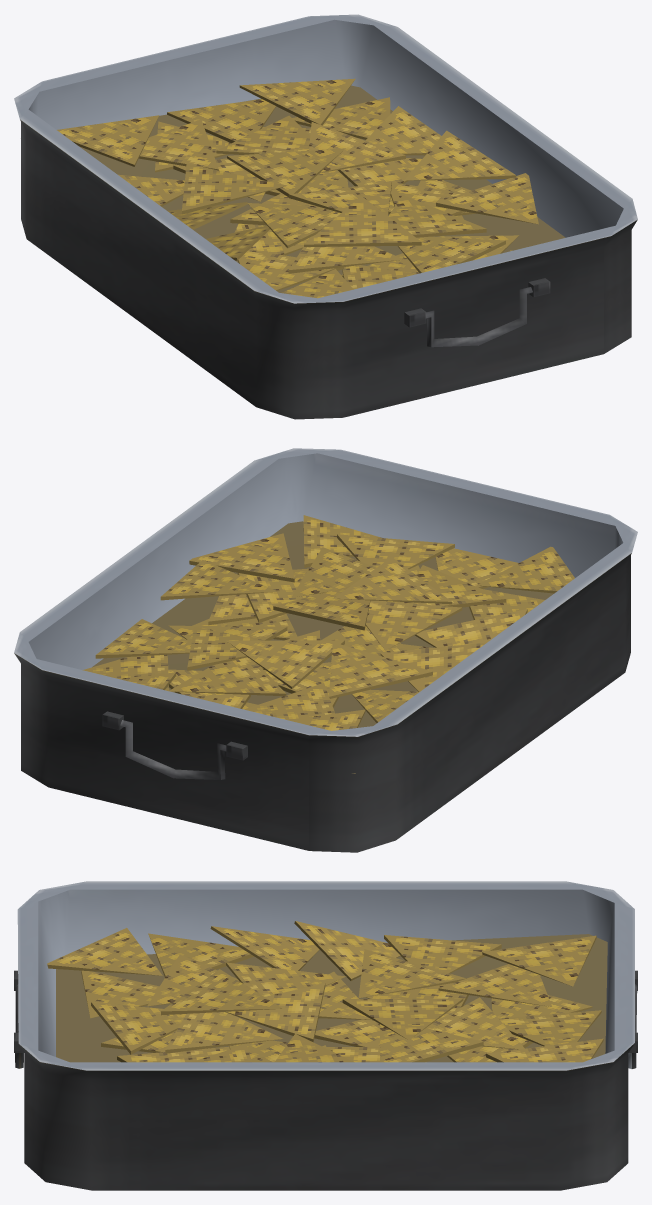
File: VFX_RoastingPanNachos.fbx
The picture shows the model from 3 angles, top to bottom: view 1: azimuth 30°, elevation 25°; view 2: azimuth 150°, elevation 25°; view 3: azimuth 270°, elevation 25°; orthographic projection. The views are drawn at different scales.
Visible parts, largest first — view 1: Roasting Pan Nachos; view 2: Roasting Pan Nachos; view 3: Roasting Pan Nachos.
Part boxes in pixels (box(x1,y1,x2,y2)): Roasting Pan Nachos: box(14, 14, 637, 419); Roasting Pan Nachos: box(14, 448, 637, 852); Roasting Pan Nachos: box(14, 881, 637, 1190).
Size of the model in its own units: 0.1413 by 0.0425 by 0.1971.
